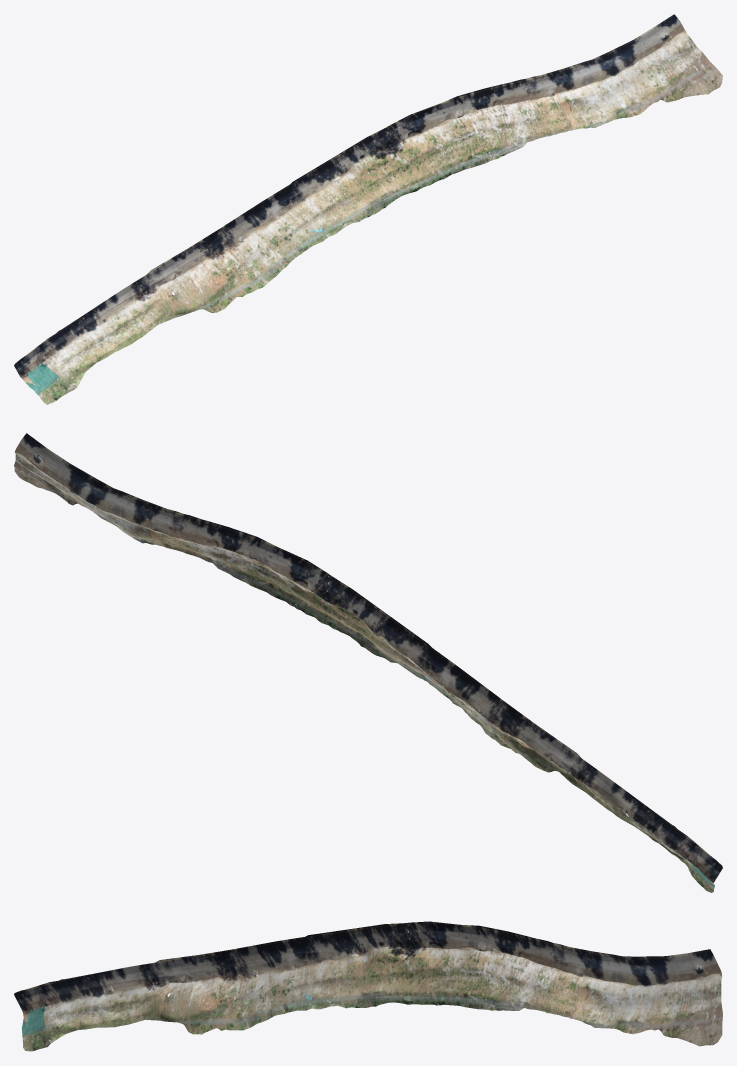
The picture shows the model from 3 angles, top to bottom: view 1: azimuth 30°, elevation 25°; view 2: azimuth 150°, elevation 25°; view 3: azimuth 330°, elevation 25°; orthographic projection. The views are drawn at different scales.
Parts seen in each view (by area): view 1: Bloco 1; view 2: Bloco 1; view 3: Bloco 1.
Boxes of the visible parts, x1,y1,x2,y2 form: Bloco 1: (14, 14, 722, 404); Bloco 1: (14, 433, 722, 892); Bloco 1: (14, 921, 722, 1051).
Bounding box in the file's own units: 388 × 138 × 45.28.
1 material, 1 textured.
